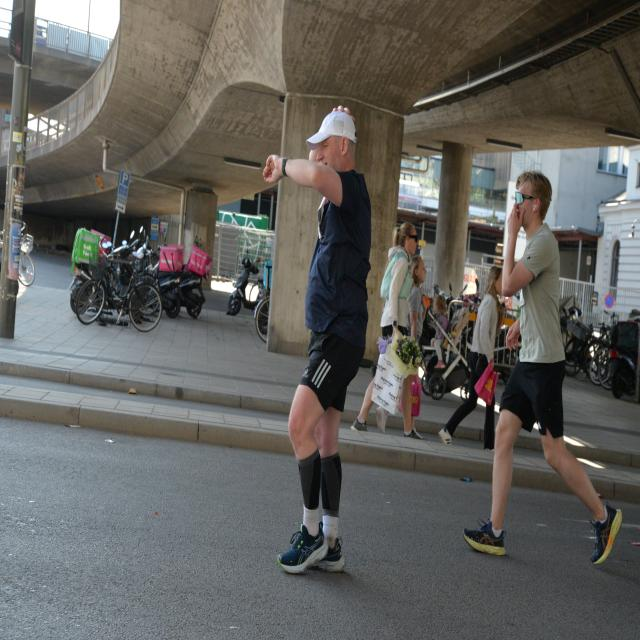runner-detect: (463, 123, 622, 575), (259, 89, 391, 593)
